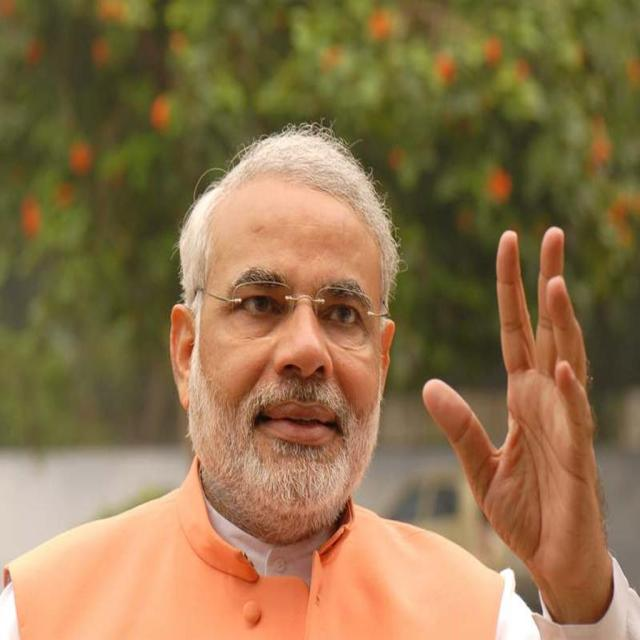Face: (212, 190, 390, 468)
